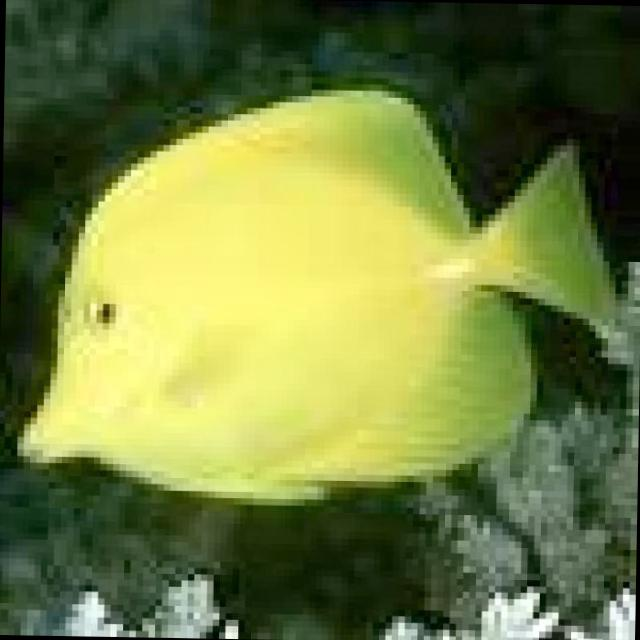YellowTang: (15, 75, 630, 538)
